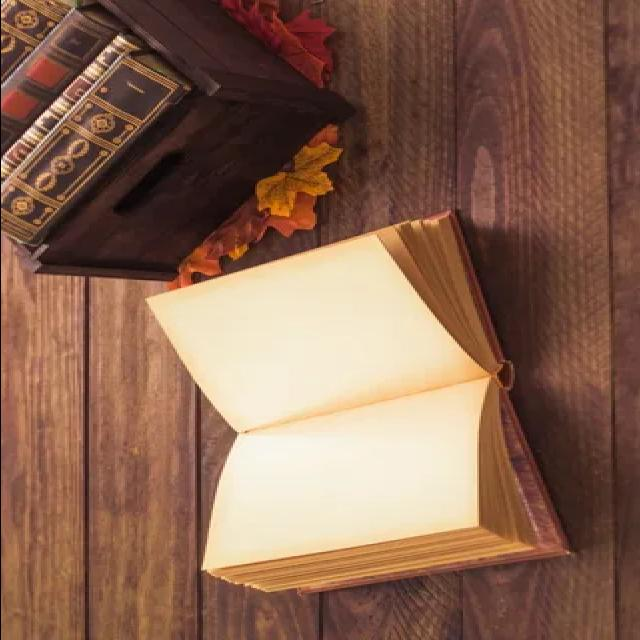book: (126, 212, 586, 610)
